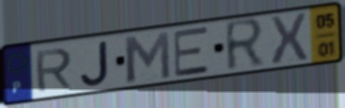E: (171, 24, 212, 79)
J: (78, 38, 111, 88)
M: (121, 29, 173, 85)
R: (223, 16, 268, 75), (33, 46, 74, 94)
X: (268, 11, 310, 68)
